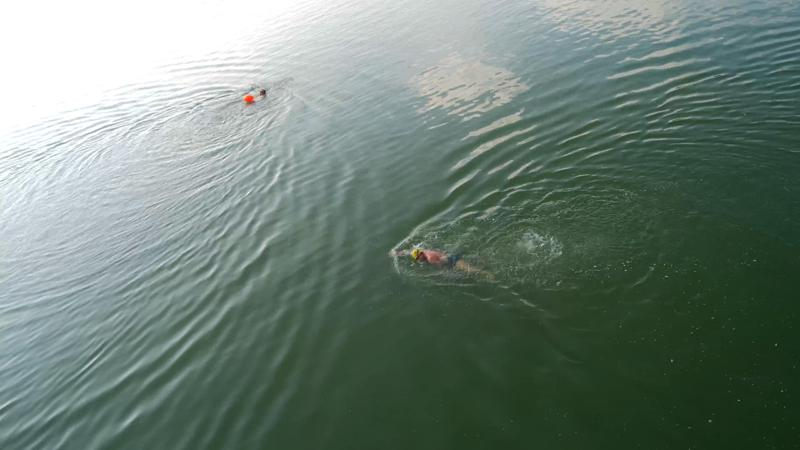swimmers: (390, 247, 493, 280)
